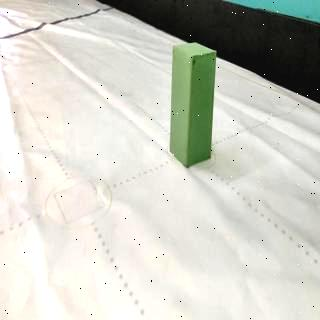greenbox: (170, 42, 216, 168)
